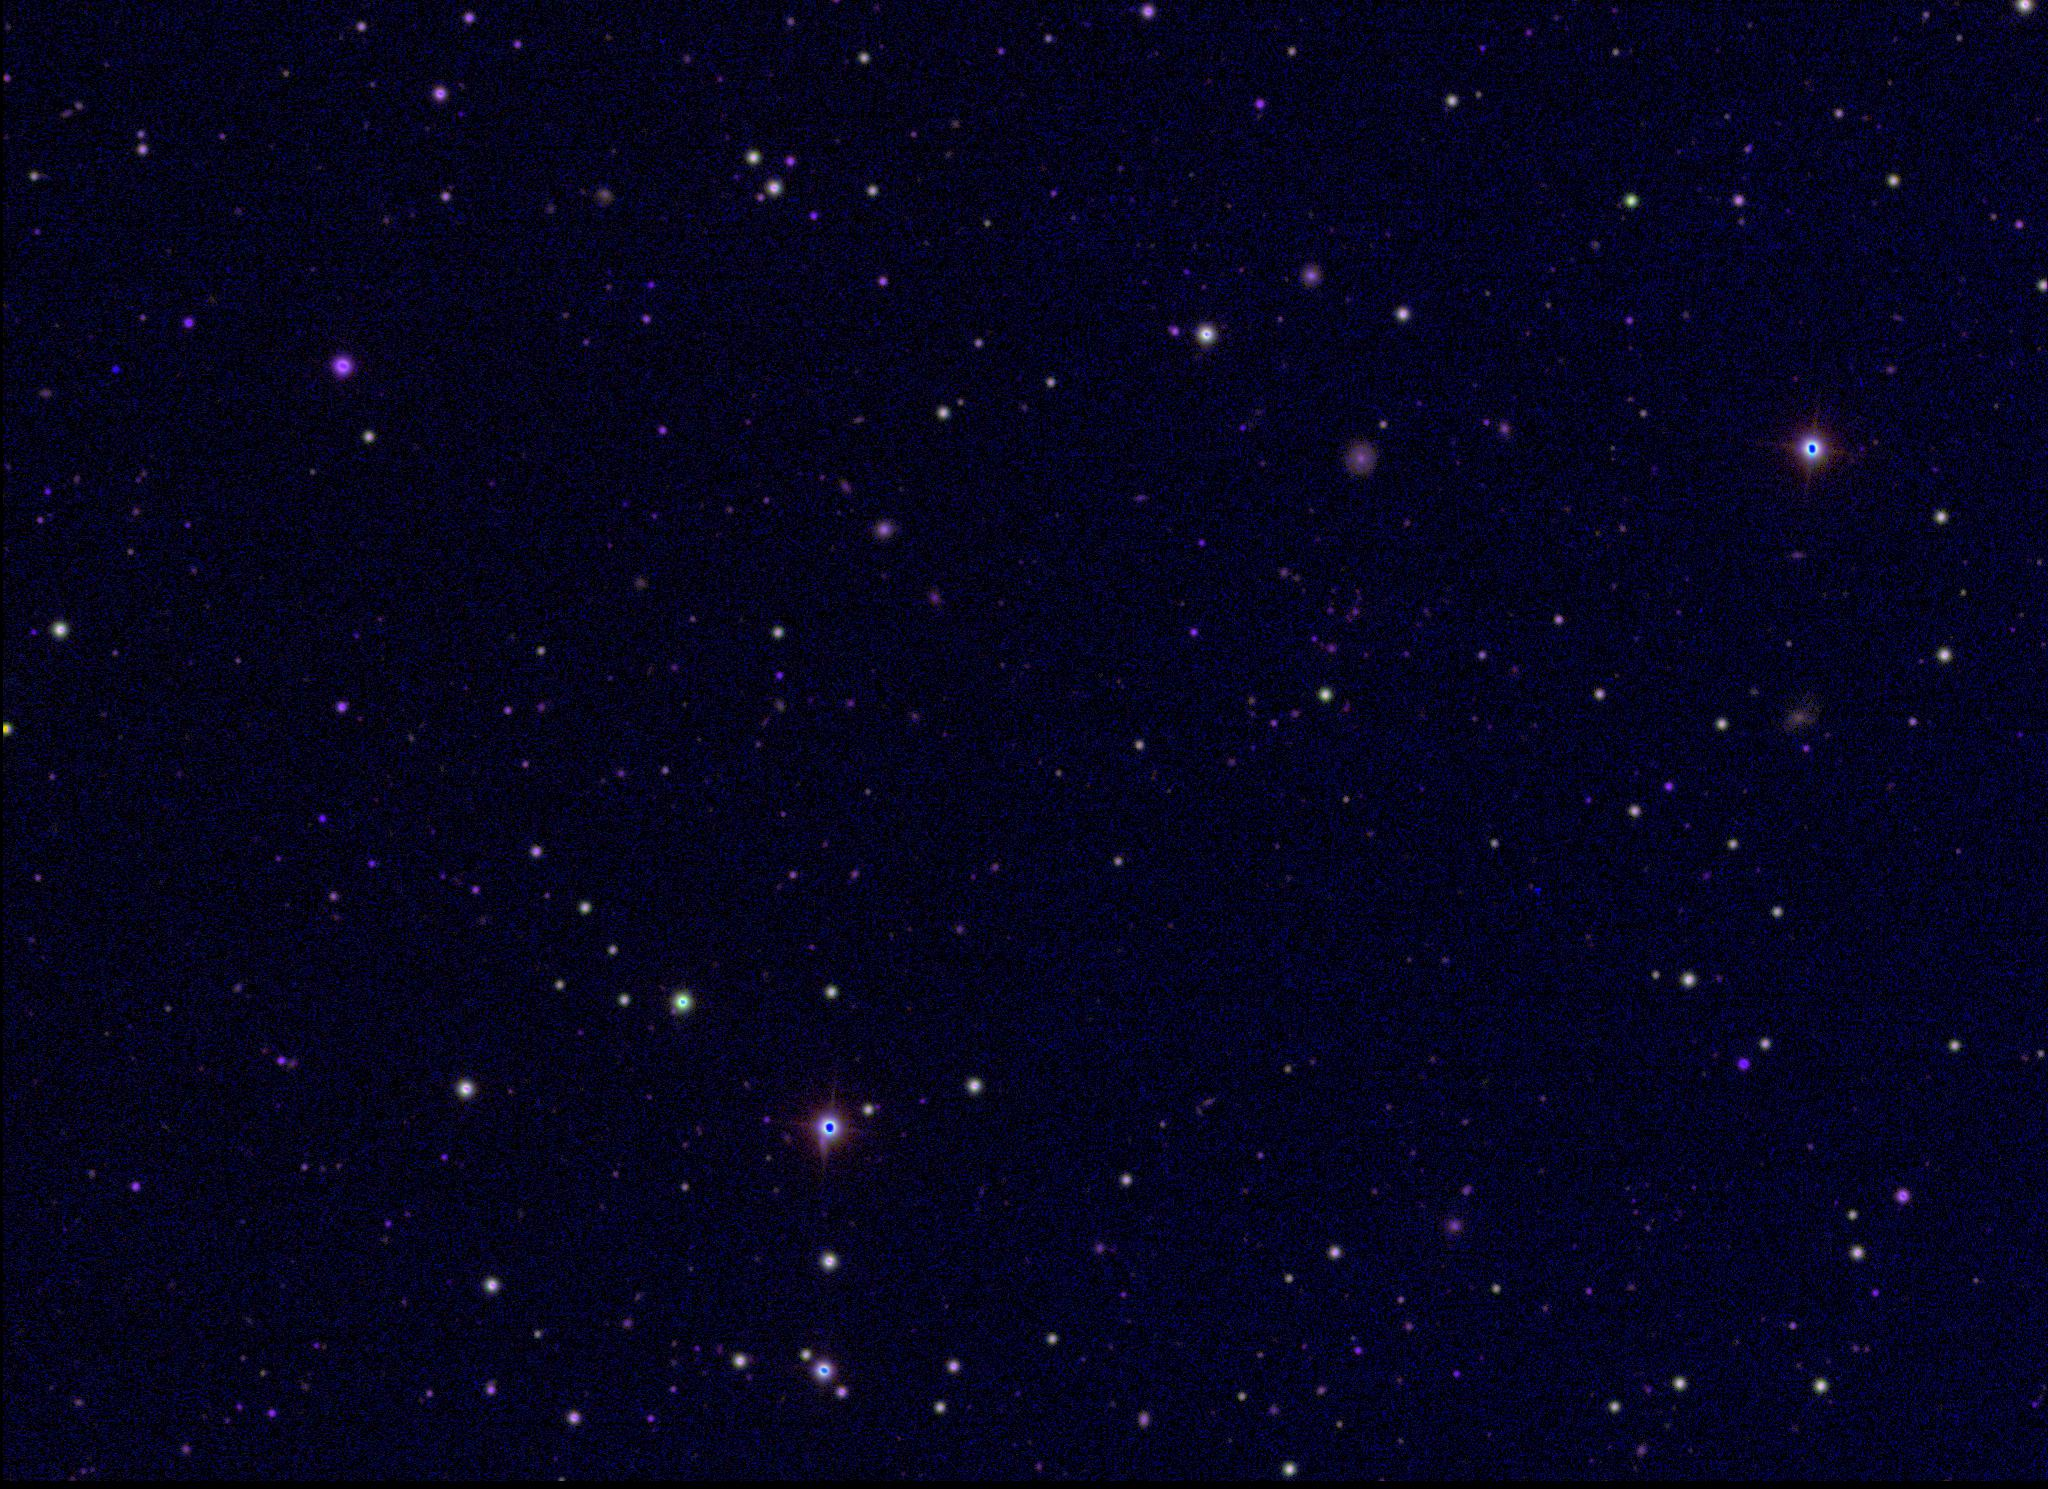L: (107, 364, 119, 379)
